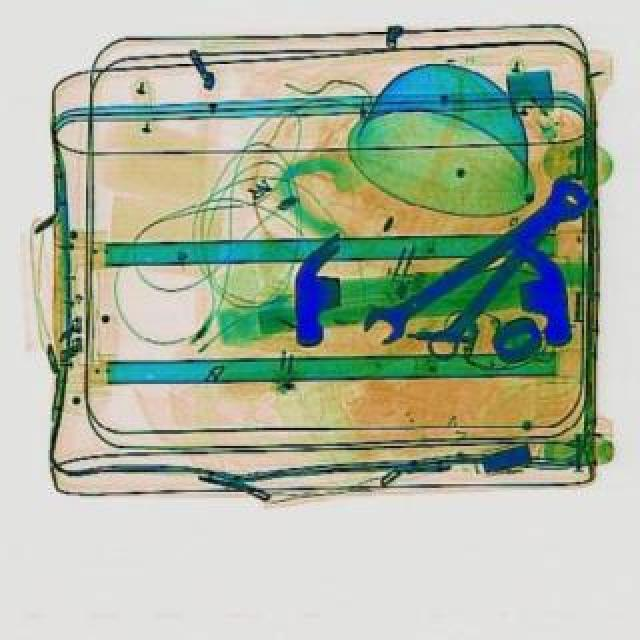scissors: (356, 176, 592, 344), (420, 166, 592, 362)
